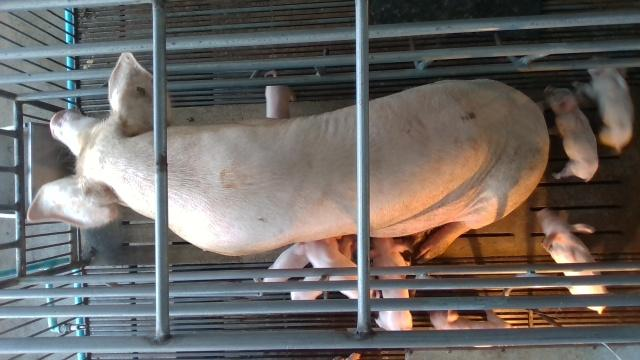piglet: (538, 208, 607, 314), (576, 56, 633, 155), (542, 83, 598, 182), (369, 237, 412, 332), (296, 235, 357, 300), (252, 242, 308, 283), (266, 71, 295, 120)
sow-sit: (26, 52, 551, 267)
